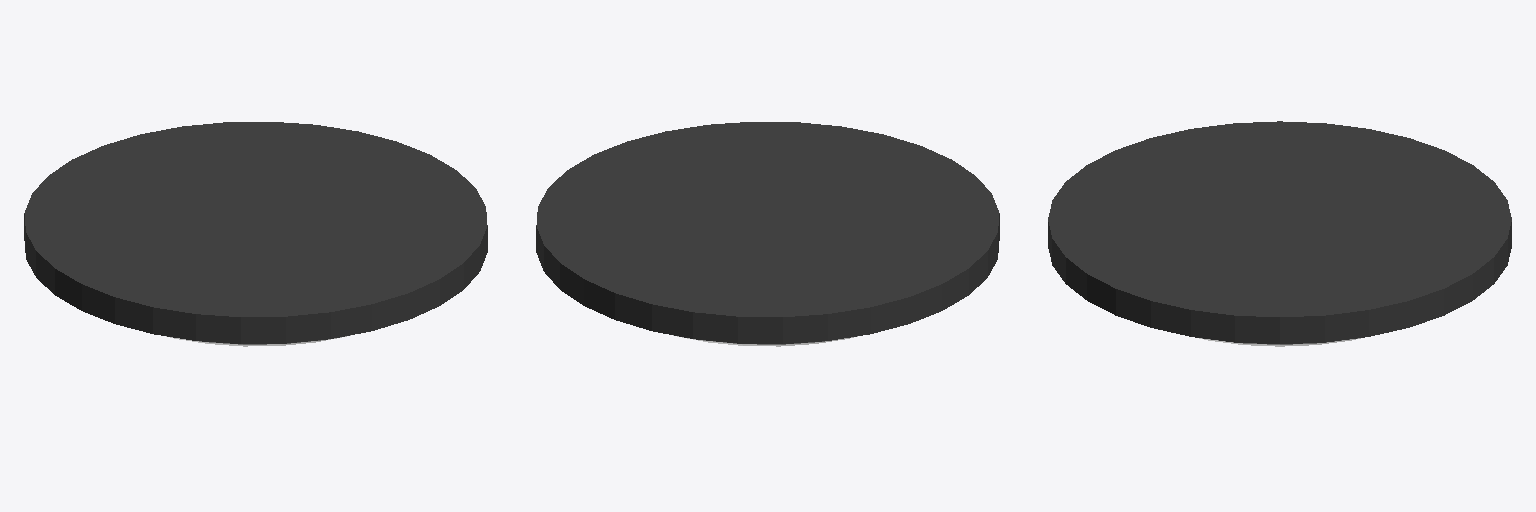
Rendered from LEDMount.obj.
3 renders of one model, left to right at view 1: azimuth 30°, elevation 25°; view 2: azimuth 150°, elevation 25°; view 3: azimuth 270°, elevation 25°, orthographic.
Parts seen in each view (by area): view 1: Cylinder; view 2: Cylinder; view 3: Cylinder.
Boxes of the visible parts, box(x1,y1,x2,y2) form: Cylinder: box(24, 122, 487, 346); Cylinder: box(536, 122, 999, 346); Cylinder: box(1048, 121, 1511, 346).
Size of the model in its own units: 0.6959 by 0.121 by 0.6959.